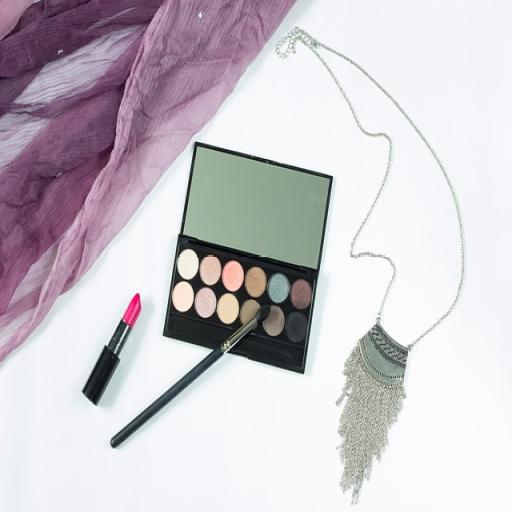lipstick: (83, 294, 141, 404)
